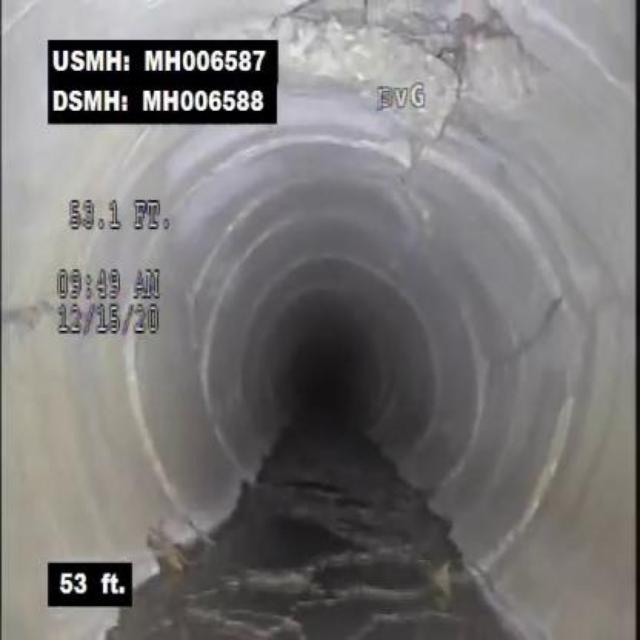Hole: (278, 0, 535, 118)
